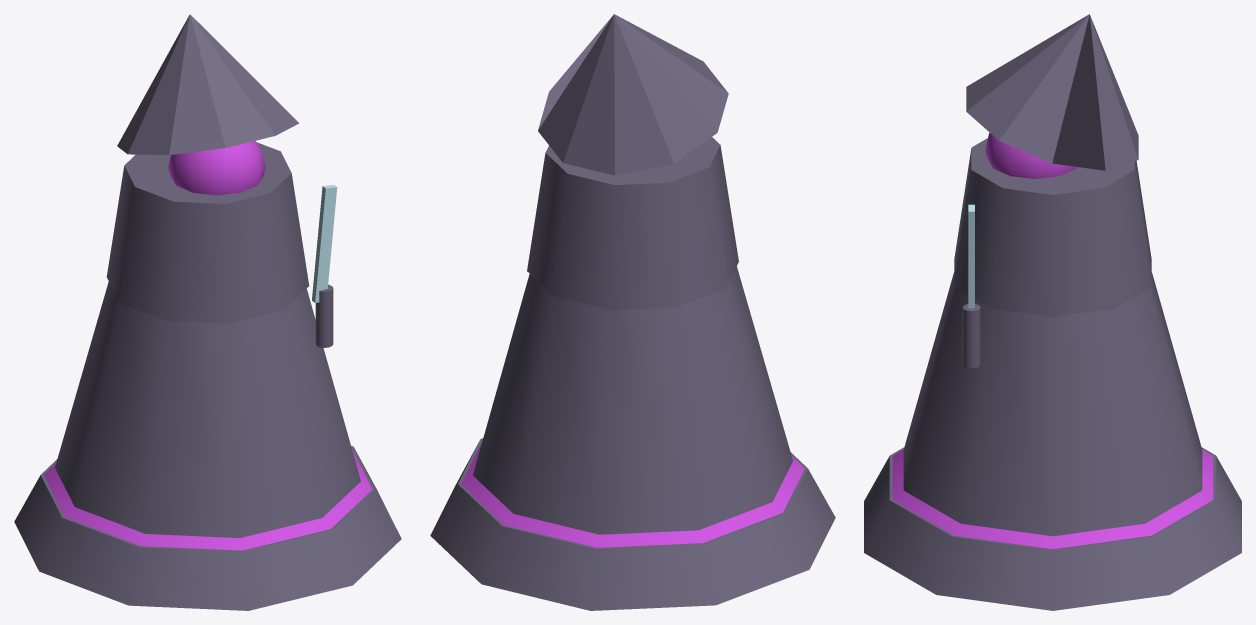
Rendered from pawn.glb.
3 renders of one model, left to right at view 1: azimuth 30°, elevation 25°; view 2: azimuth 150°, elevation 25°; view 3: azimuth 270°, elevation 25°, orthographic. The views are drawn at different scales.
Visible parts, largest first — view 1: pawn; view 2: pawn; view 3: pawn.
Boxes of the visible parts, <box> form: pawn: <box>14,14,401,610</box>; pawn: <box>430,14,835,610</box>; pawn: <box>864,14,1241,610</box>.
Bounding box in the file's own units: 0.88 × 1.25 × 0.8369.
